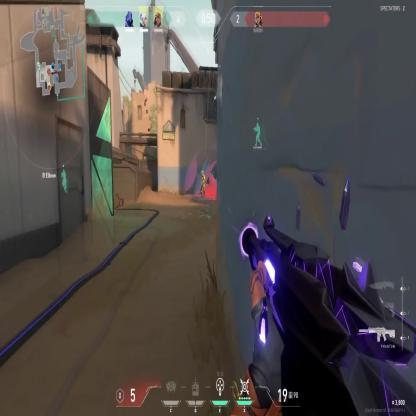enemy: (199, 169, 206, 199)
enemy_head: (201, 170, 204, 176)
